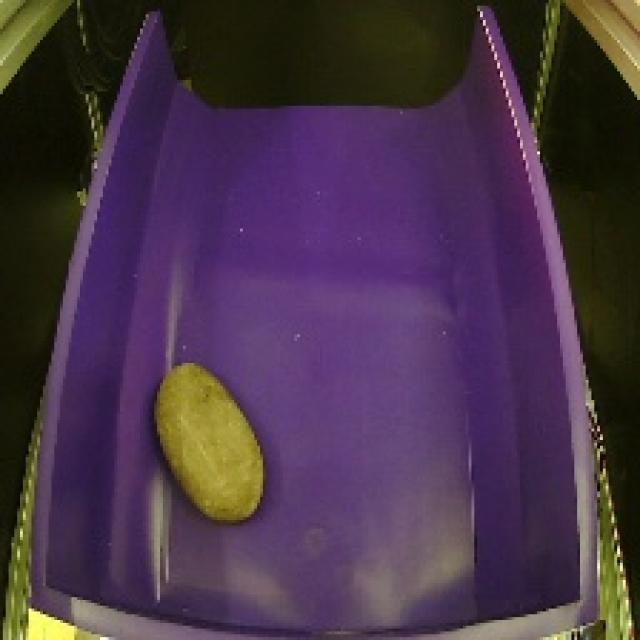cobbles: (143, 350, 281, 534)
